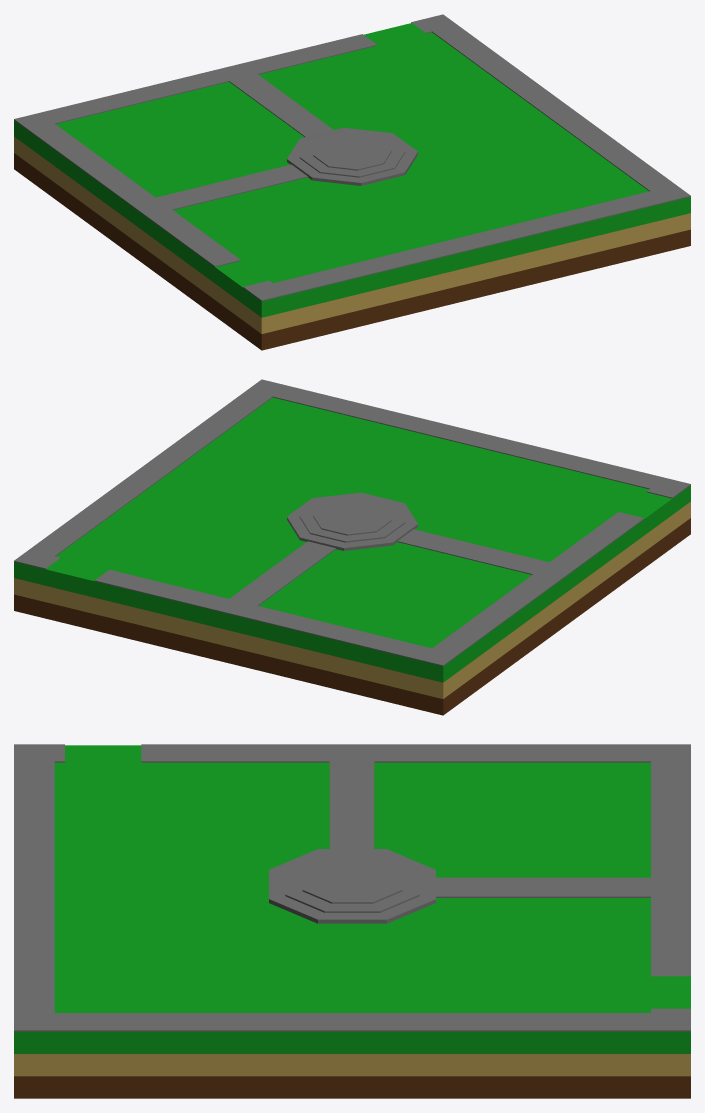
Rendered from University-HitBox.glb.
3 views of the same model, one above another, from view 1: azimuth 30°, elevation 25°; view 2: azimuth 150°, elevation 25°; view 3: azimuth 270°, elevation 25° (orthographic). The views are drawn at different scales.
Parts seen in each view (by area): view 1: Plane.035, Plane.031, Plane.030, Cylinder.132; view 2: Plane.035, Plane.031, Plane.030, Cylinder.132; view 3: Plane.035, Plane.031, Plane.030, Cylinder.132.
Part boxes in pixels (left/top/right/bottom): Plane.035: left=14, top=23, right=690, bottom=350; Plane.031: left=14, top=34, right=377, bottom=267; Plane.030: left=243, top=14, right=690, bottom=301; Cylinder.132: left=287, top=128, right=417, bottom=185; Plane.035: left=14, top=397, right=690, bottom=715; Plane.031: left=94, top=512, right=644, bottom=666; Plane.030: left=14, top=379, right=690, bottom=569; Cylinder.132: left=287, top=492, right=417, bottom=550; Plane.035: left=14, top=745, right=690, bottom=1098; Plane.031: left=141, top=744, right=690, bottom=976; Plane.030: left=14, top=744, right=690, bottom=1031; Cylinder.132: left=269, top=849, right=435, bottom=923.
Size of what is drawn, in the model's own units: 33.35 by 4.05 by 33.35.
